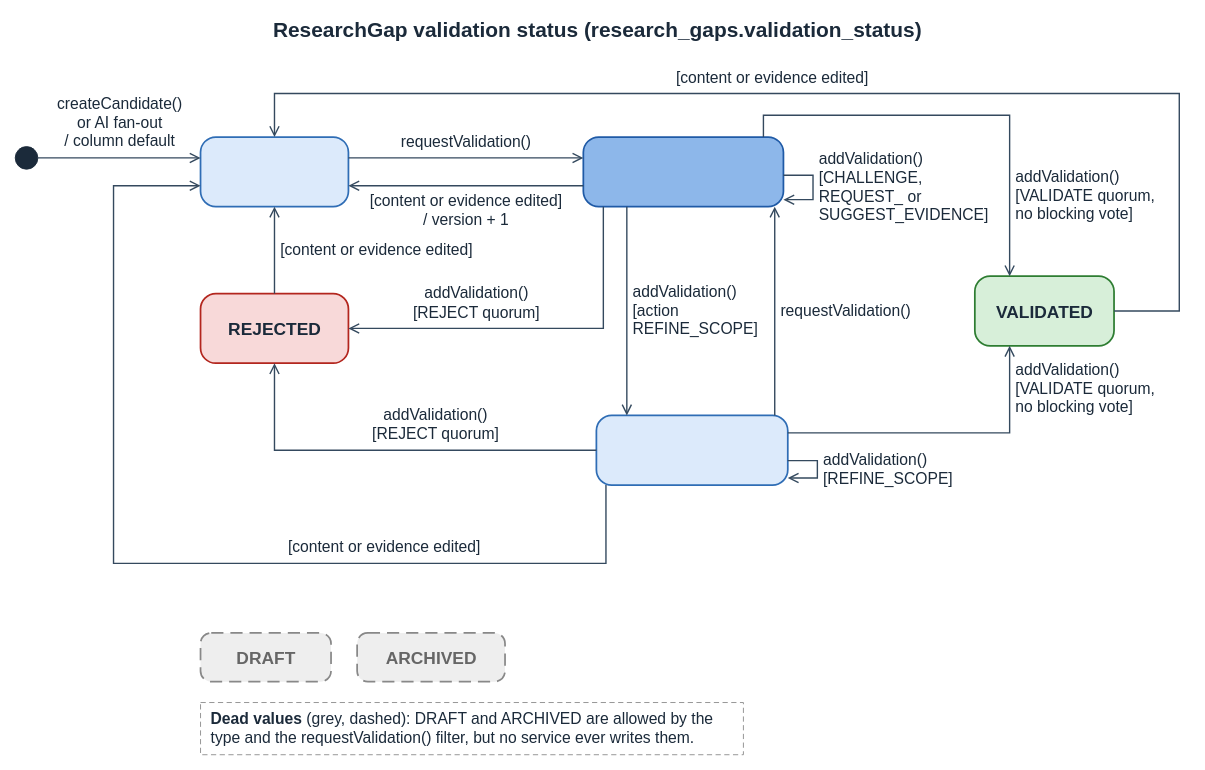
This 1205x770 diagram has some shape labels left out. The centre of each missing label's shape, as x and y in pixels:
CANDIDATE: pixel 274 171
REFINED: pixel 691 449
UNDER_VALIDATION: pixel 683 171
